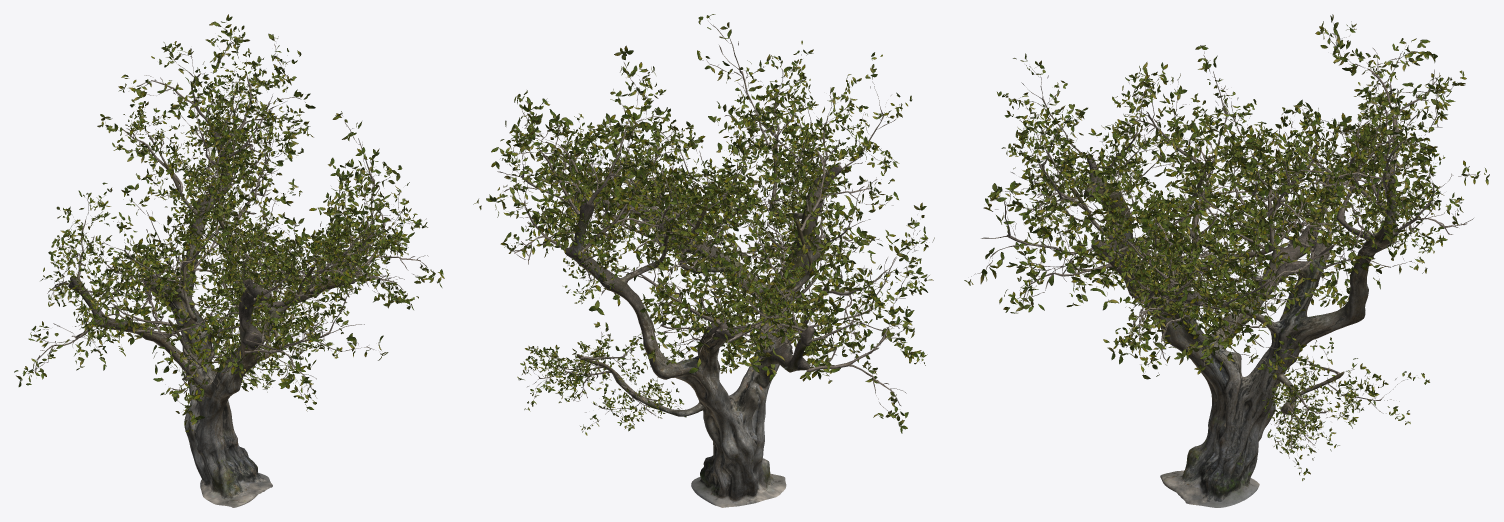
File: island_tree_01.gltf
3 views of the same model, side by side, from view 1: azimuth 30°, elevation 25°; view 2: azimuth 150°, elevation 25°; view 3: azimuth 270°, elevation 25° (orthographic). The views are drawn at different scales.
Parts seen in each view (by area): view 1: island_tree_01_LOD0.002, island_tree_01_LOD0, island_tree_01_LOD0.001; view 2: island_tree_01_LOD0.002, island_tree_01_LOD0, island_tree_01_LOD0.001; view 3: island_tree_01_LOD0.002, island_tree_01_LOD0.001, island_tree_01_LOD0.
Boxes of the visible parts, <box> form: island_tree_01_LOD0.002: <box>14,14,444,432</box>; island_tree_01_LOD0: <box>22,28,433,420</box>; island_tree_01_LOD0.001: <box>68,127,370,507</box>; island_tree_01_LOD0.002: <box>473,14,934,435</box>; island_tree_01_LOD0: <box>496,18,926,426</box>; island_tree_01_LOD0.001: <box>564,137,841,507</box>; island_tree_01_LOD0.002: <box>964,14,1489,480</box>; island_tree_01_LOD0.001: <box>1070,146,1398,507</box>; island_tree_01_LOD0: <box>971,23,1479,472</box>.
Bounding box in the file's own units: 4.68 × 5.04 × 4.77.
Materials: 3 (3 with a texture image).
